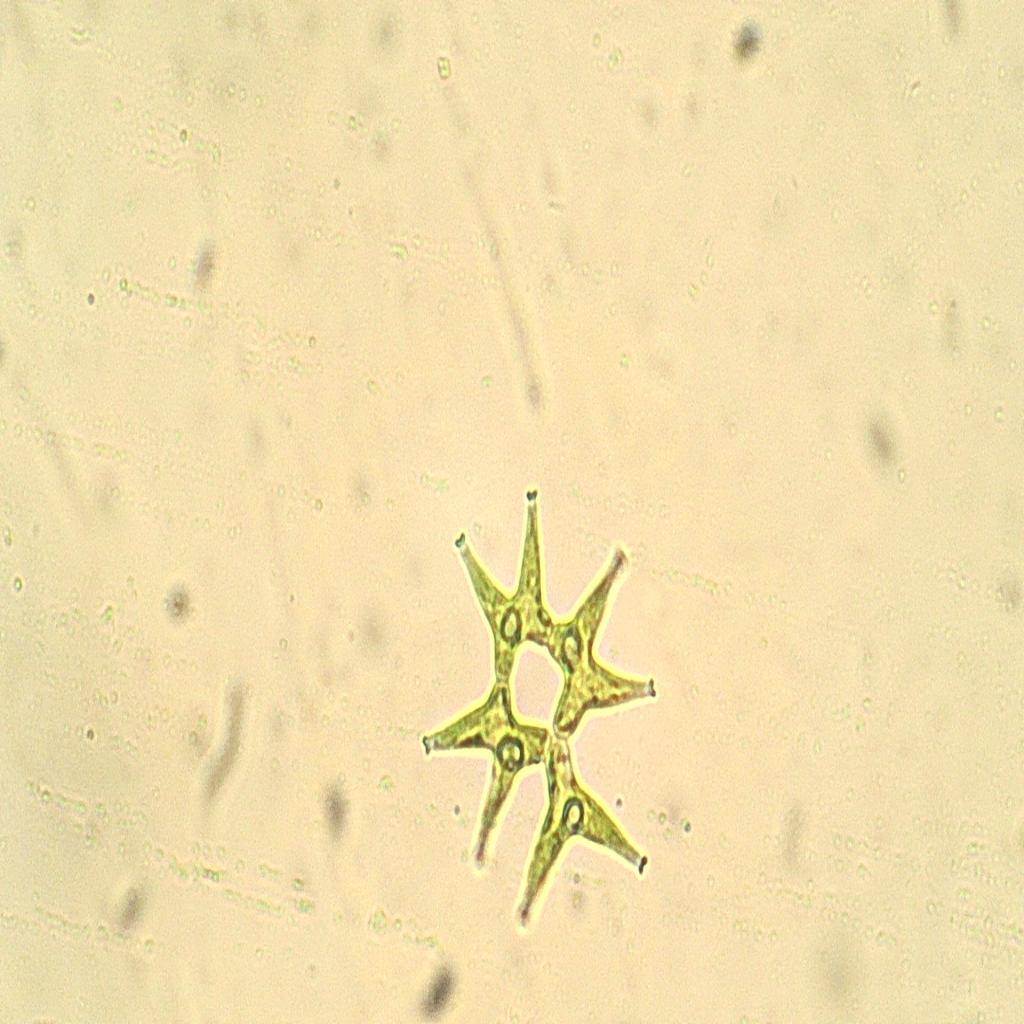Pediastrum_75FI: (414, 477, 685, 933)
